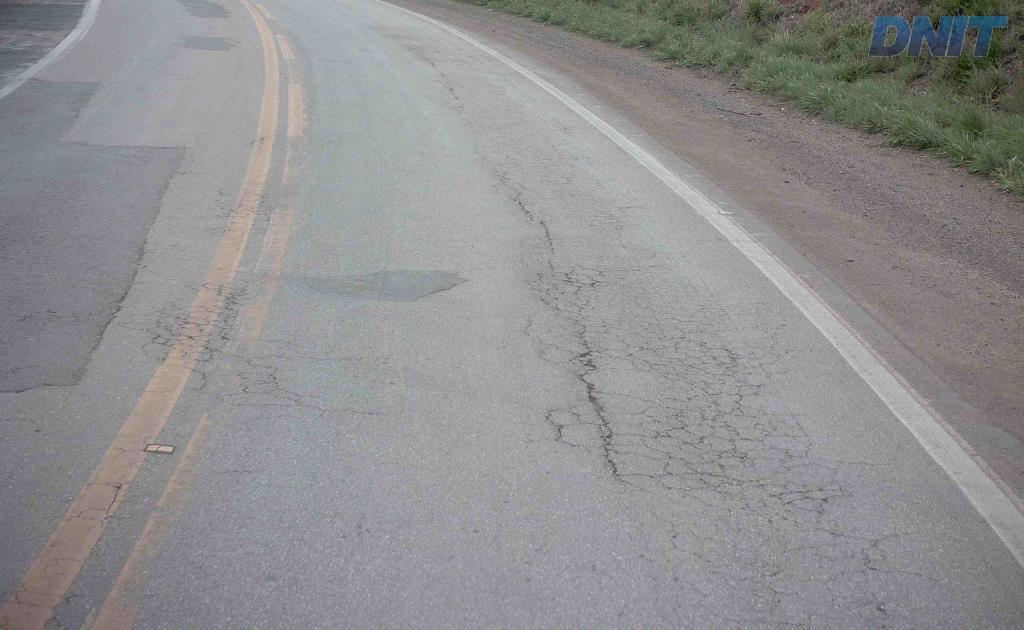crack: (568, 318, 642, 486), (678, 380, 771, 467), (682, 458, 764, 503), (551, 266, 608, 300), (852, 591, 895, 629), (735, 549, 784, 580)
